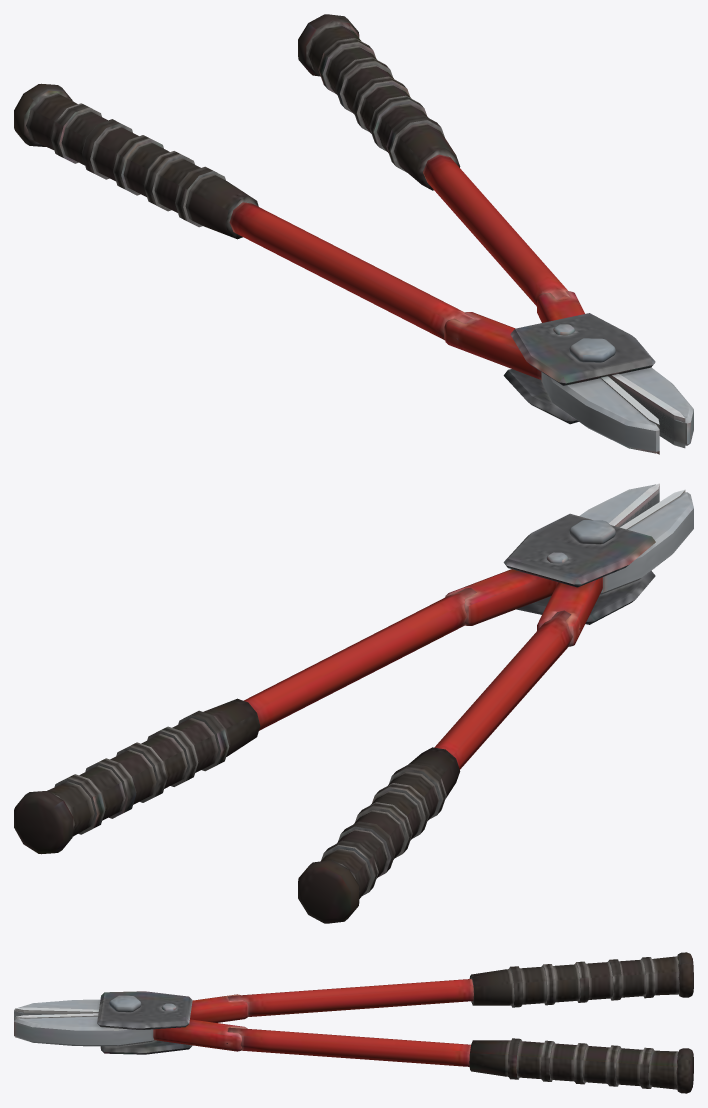
The model's file is cutters.glb.
3 views of the same model, one above another, from view 1: azimuth 30°, elevation 25°; view 2: azimuth 150°, elevation 25°; view 3: azimuth 270°, elevation 25° (orthographic). The views are drawn at different scales.
Parts seen in each view (by area): view 1: cutters; view 2: cutters; view 3: cutters.
Boxes of the visible parts, bbox=[...] form: cutters: bbox=[14, 14, 693, 454]; cutters: bbox=[14, 483, 693, 923]; cutters: bbox=[14, 952, 693, 1093].
Bounding box in the file's own units: 0.3086 × 0.056 × 0.7754.
1 material, 1 textured.
